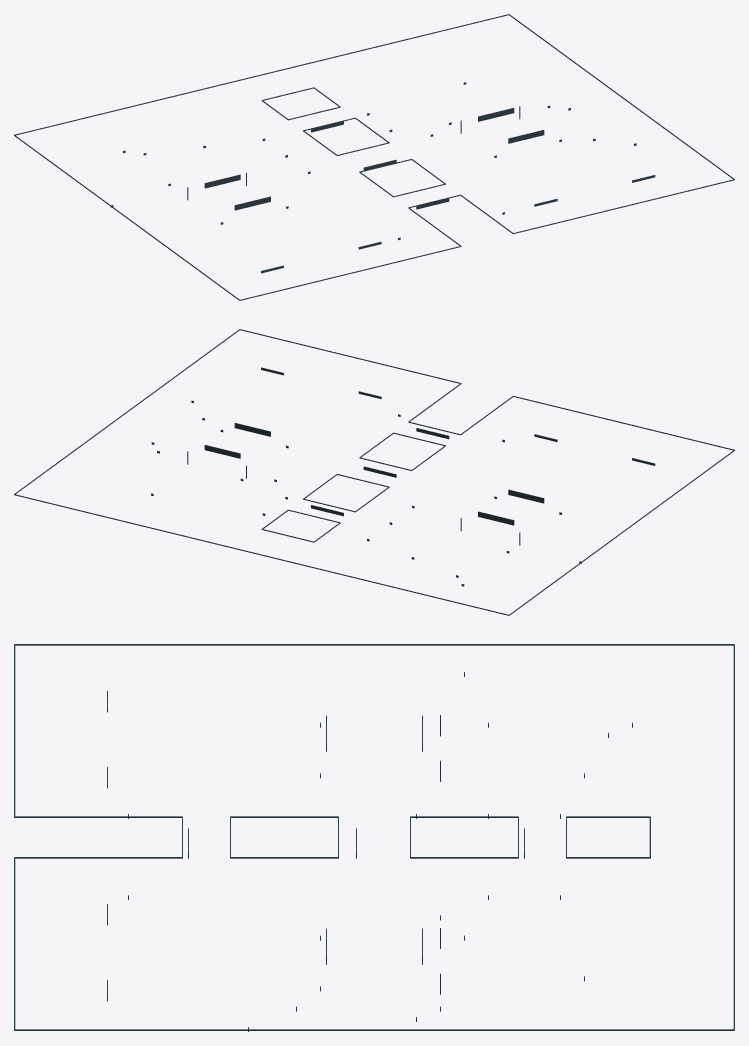
Rendered from frame.dae.
3 views of the same model, one above another, from view 1: azimuth 30°, elevation 25°; view 2: azimuth 150°, elevation 25°; view 3: azimuth 270°, elevation 25° (orthographic). The views are drawn at different scales.
Visible parts, largest first — view 1: frame; view 2: frame; view 3: frame.
Part boxes in pixels (<box>): frame: <box>14,14,734,300</box>; frame: <box>14,329,734,615</box>; frame: <box>14,644,734,1031</box>.
Bounding box in the file's own units: 152 × 120 × 5.35.
